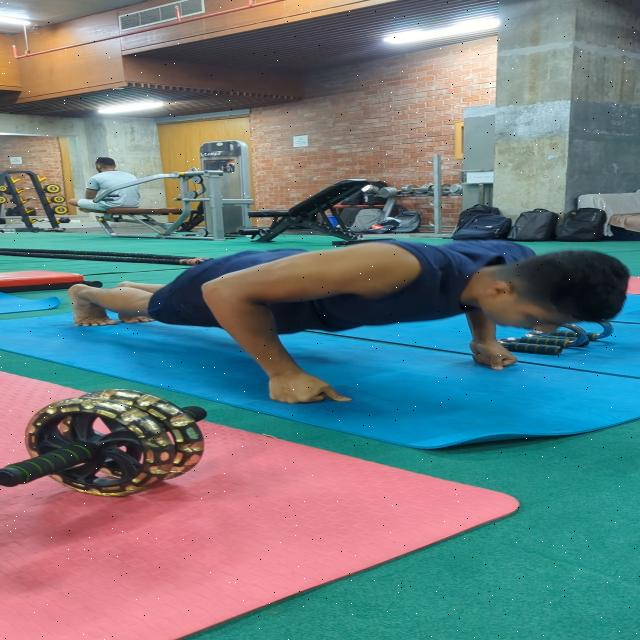Normal_PushUps: (30, 225, 631, 415)
